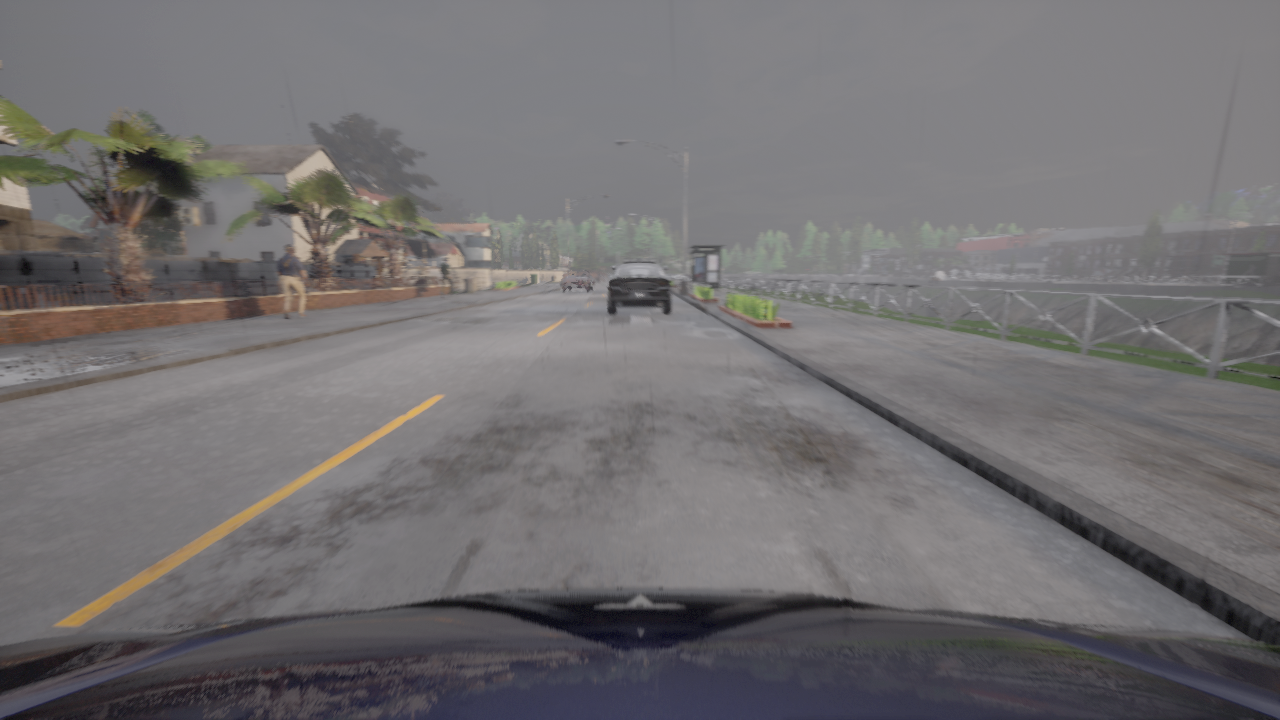cyclist: (0, 588, 1279, 719), (608, 260, 671, 313), (561, 269, 593, 292)
pedestrian: (277, 245, 308, 319), (439, 257, 454, 298)
